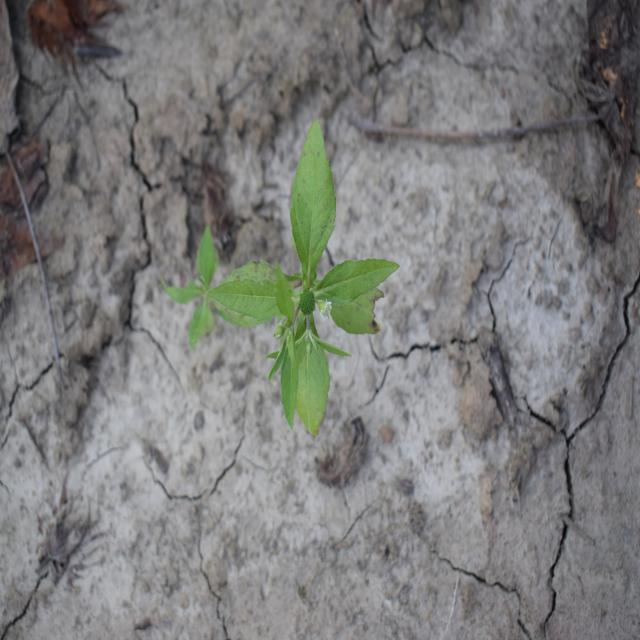Eclipta: (157, 117, 401, 439)
